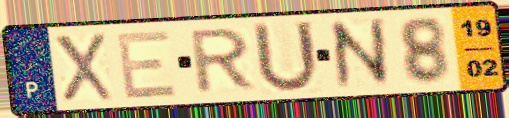8: (396, 14, 453, 87)
E: (113, 27, 180, 101)
N: (325, 15, 396, 93)
R: (188, 25, 259, 96)
U: (249, 19, 323, 96)
X: (50, 31, 117, 104)
